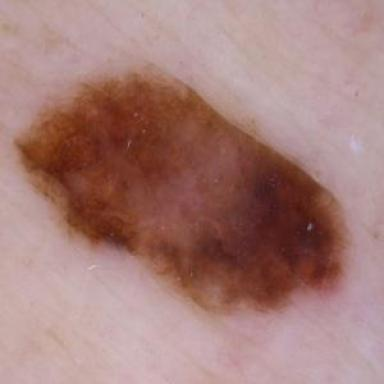Melanoma: (17, 74, 347, 312)
